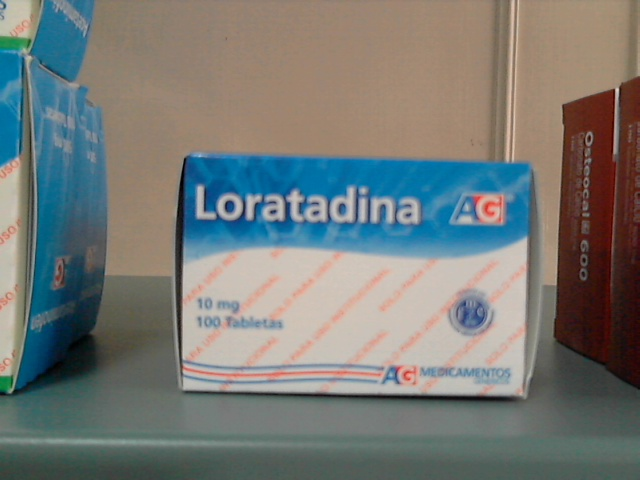AG: (185, 159, 527, 397)
